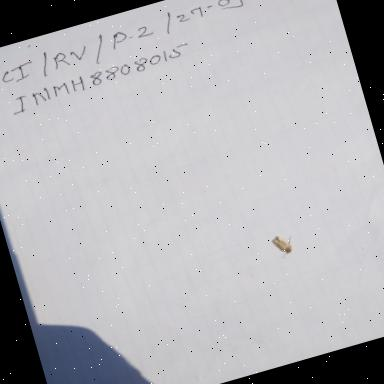pbw: (257, 220, 319, 267)
